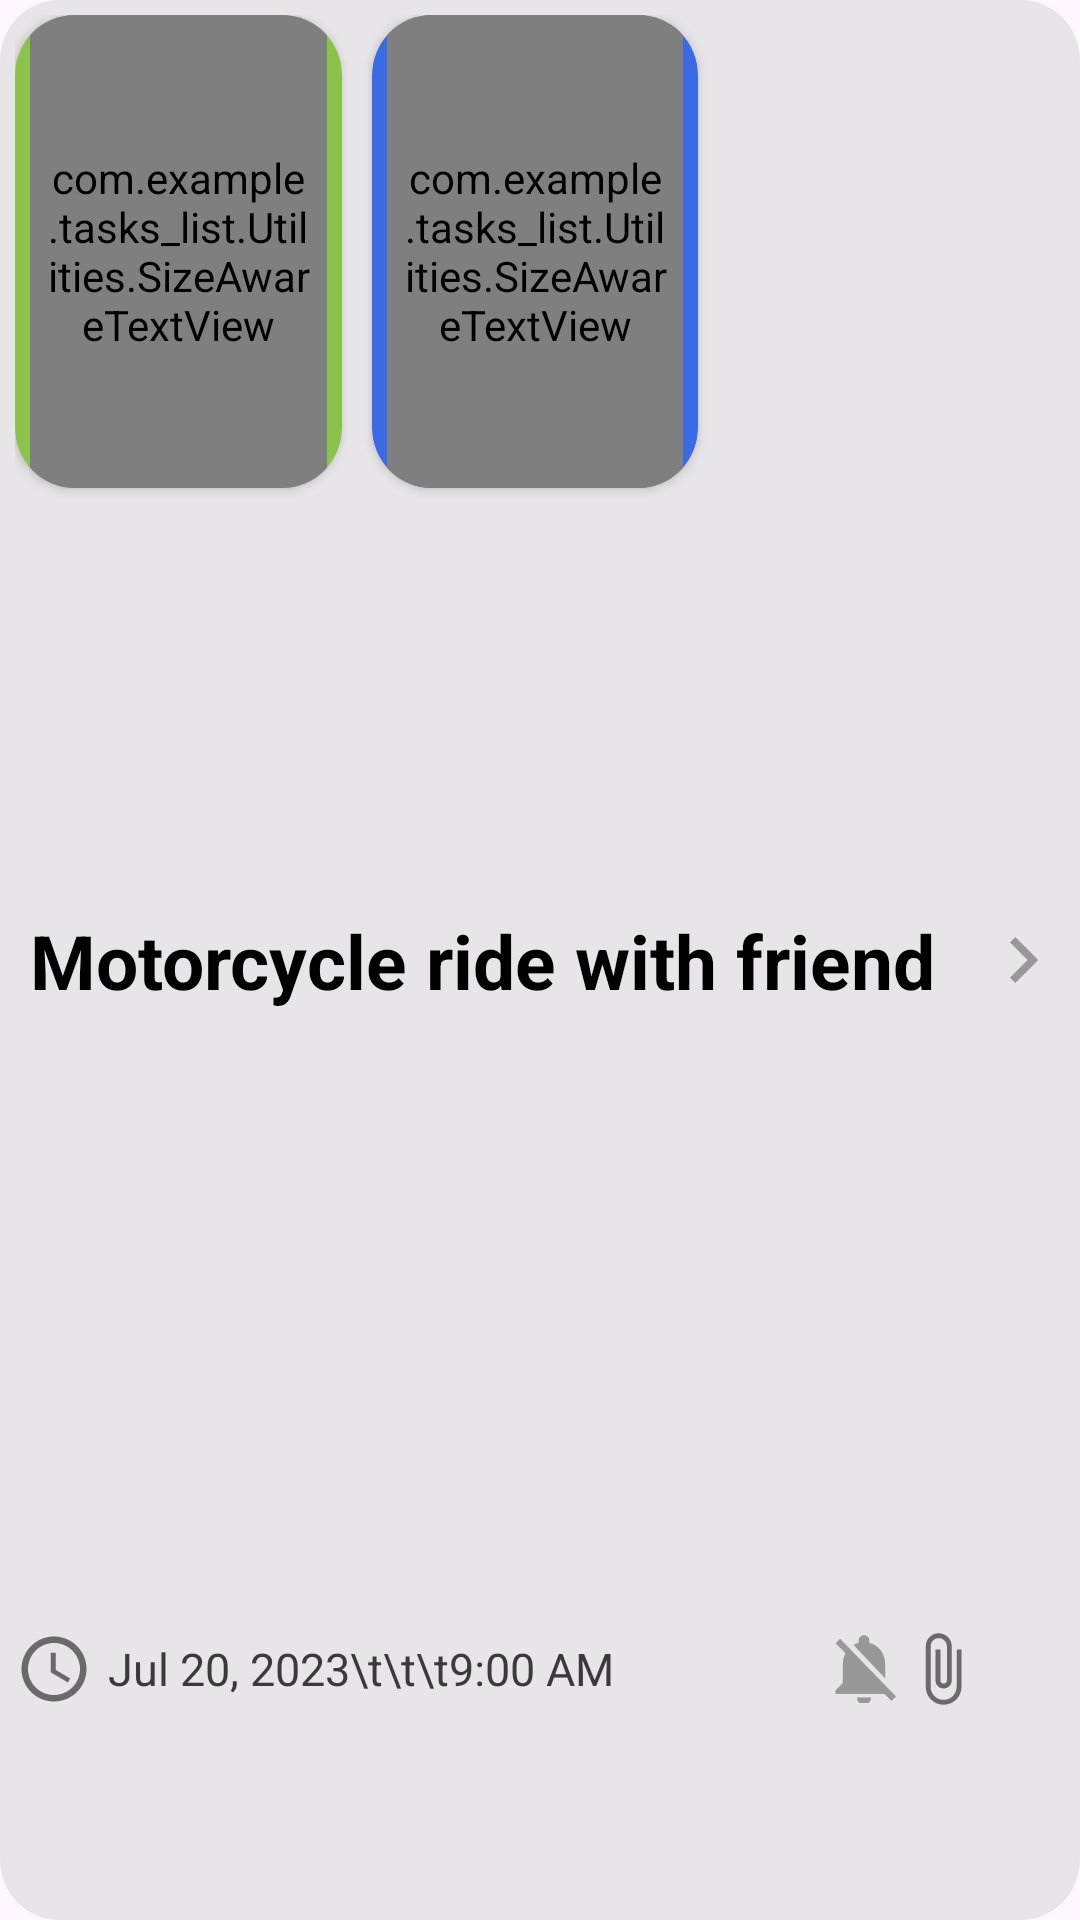

Named icons in this screenshot (1080 × 1920) and their bounding boxes, [x1, y1, x2, y2]:
attachment: [925, 1633, 962, 1705]
clock: [21, 1636, 87, 1702]
notifications off: [835, 1635, 896, 1703]
task details: [1010, 937, 1038, 983]
